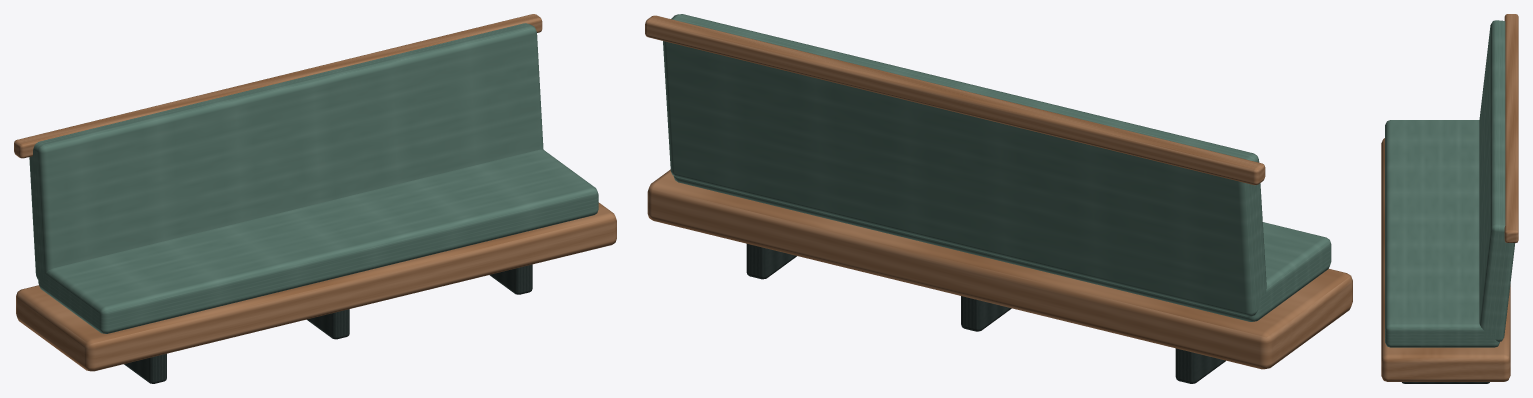
Rendered from built-in-bench.glb.
3 views of the same model, side by side, from view 1: azimuth 30°, elevation 25°; view 2: azimuth 150°, elevation 25°; view 3: azimuth 270°, elevation 25° (orthographic). The views are drawn at different scales.
Visible parts, largest first — view 1: Bench_Back, Bench_Seat, Bench_Platform, Bench_BackRail, Bench_Leg_1.65, Bench_Leg_0, Bench_Leg_-1.65; view 2: Bench_Back, Bench_Platform, Bench_BackRail, Bench_Seat, Bench_Leg_-1.65, Bench_Leg_1.65, Bench_Leg_0; view 3: Bench_Seat, Bench_Back, Bench_Platform, Bench_BackRail, Bench_Leg_1.65.
Part boxes in pixels (x1,y1,x2,y2): Bench_Back: [29, 23, 543, 280]; Bench_Seat: [38, 149, 598, 333]; Bench_Platform: [16, 202, 616, 371]; Bench_BackRail: [14, 14, 542, 158]; Bench_Leg_1.65: [489, 264, 532, 294]; Bench_Leg_0: [307, 309, 349, 339]; Bench_Leg_-1.65: [124, 353, 166, 383]; Bench_Back: [663, 14, 1266, 316]; Bench_Platform: [647, 169, 1352, 369]; Bench_BackRail: [645, 15, 1265, 185]; Bench_Seat: [673, 176, 1331, 321]; Bench_Leg_-1.65: [1175, 348, 1225, 383]; Bench_Leg_1.65: [746, 244, 796, 279]; Bench_Leg_0: [961, 296, 1011, 331]; Bench_Seat: [1385, 120, 1499, 347]; Bench_Back: [1479, 20, 1515, 341]; Bench_Platform: [1381, 138, 1510, 381]; Bench_BackRail: [1504, 14, 1518, 242]; Bench_Leg_1.65: [1402, 382, 1489, 383].
Bounding box in the file's own units: 4.8 × 1.84 × 1.25.
Materials: 4 (4 with a texture image).
